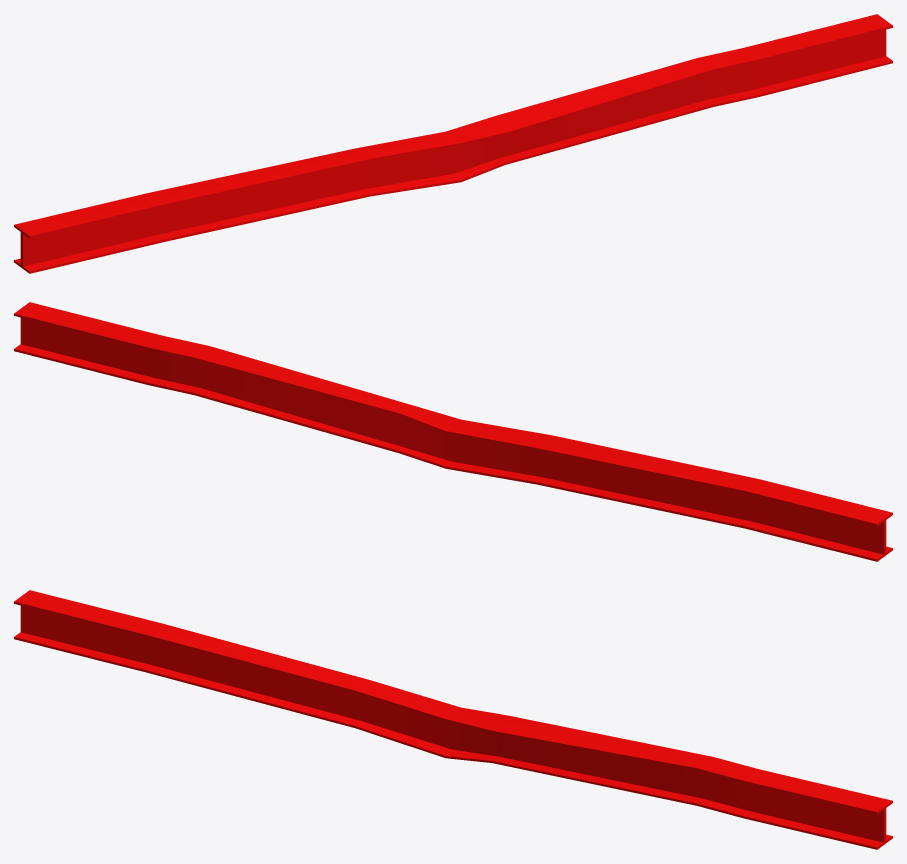
The model's file is Structure01_Beam03d.fbx.
3 renders of one model, top to bottom at view 1: azimuth 30°, elevation 25°; view 2: azimuth 150°, elevation 25°; view 3: azimuth 330°, elevation 25°, orthographic.
Parts seen in each view (by area): view 1: Structure01_Beam03d_LOD0; view 2: Structure01_Beam03d_LOD0; view 3: Structure01_Beam03d_LOD0.
Boxes of the visible parts, x1,y1,x2,y2 form: Structure01_Beam03d_LOD0: [14, 14, 892, 273]; Structure01_Beam03d_LOD0: [14, 302, 892, 561]; Structure01_Beam03d_LOD0: [14, 590, 892, 849].
Size of what is drawn, in the model's own units: 600 by 34.1 by 22.19.
